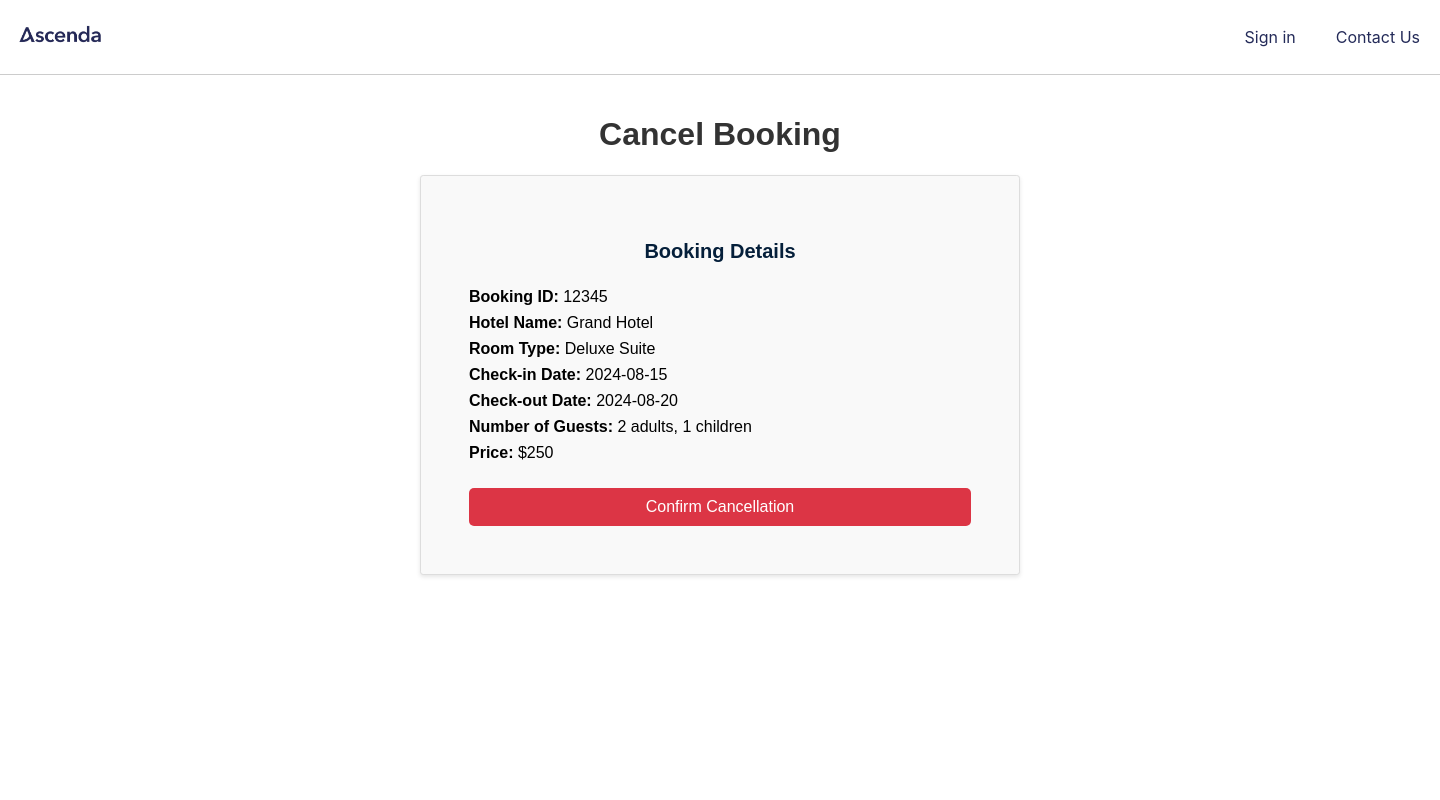
Test: Cancel Booking Use Case › Customer navigates to booking cancellation page and cancels booking successfully
This screenshot has width=1440, height=800.
Expected: the element showing "Booking ID: 12345" is shown, [469,288,608,305]
Note: Simulate clicking the cancel button
Click the button with class "cancel-button". click: x=720, y=507
box: [469,488,971,526]
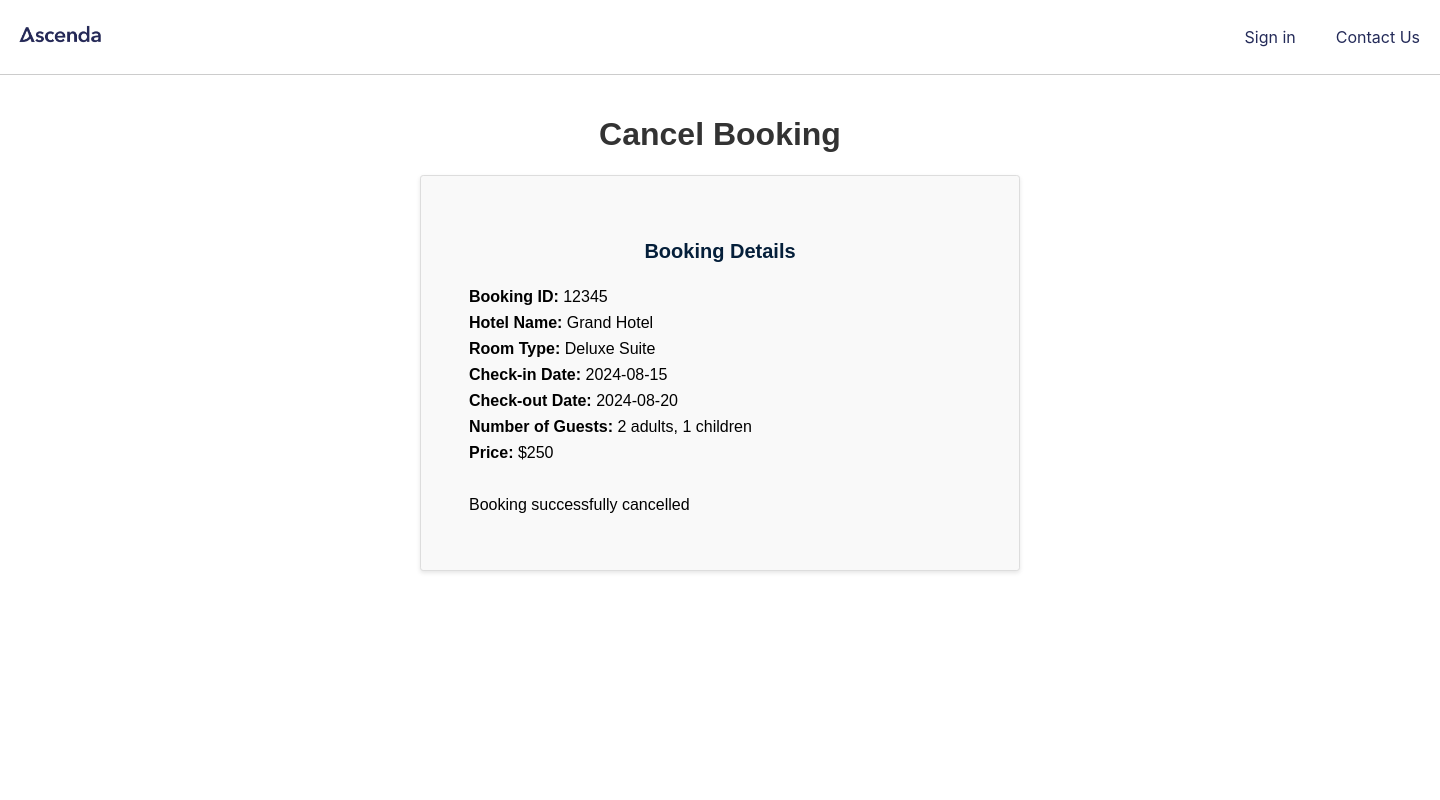
Now the text with class "cancel-success-message" reads "Booking successfully cancelled", box [469,496,690,513]
